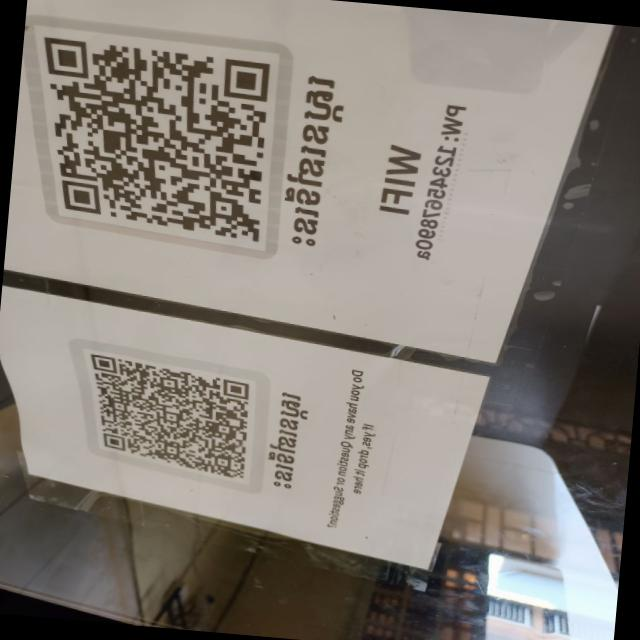Yolov11kh: (278, 70, 359, 258), (259, 383, 319, 504)
